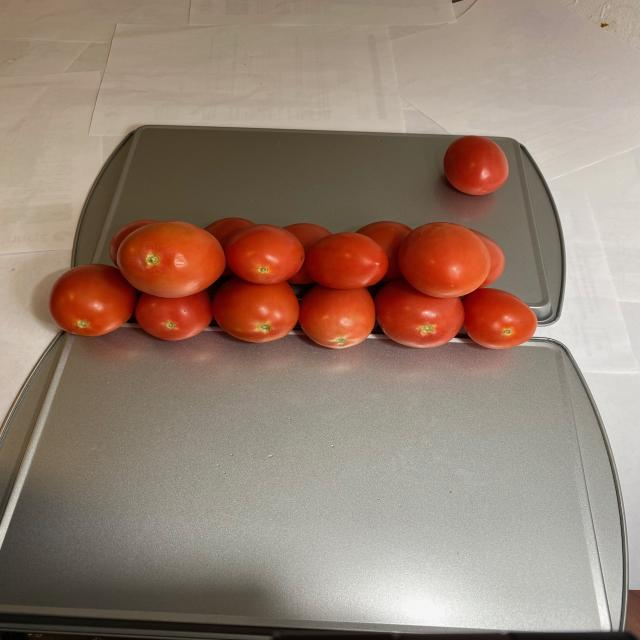tomato: (38, 218, 537, 352), (436, 135, 515, 198)
